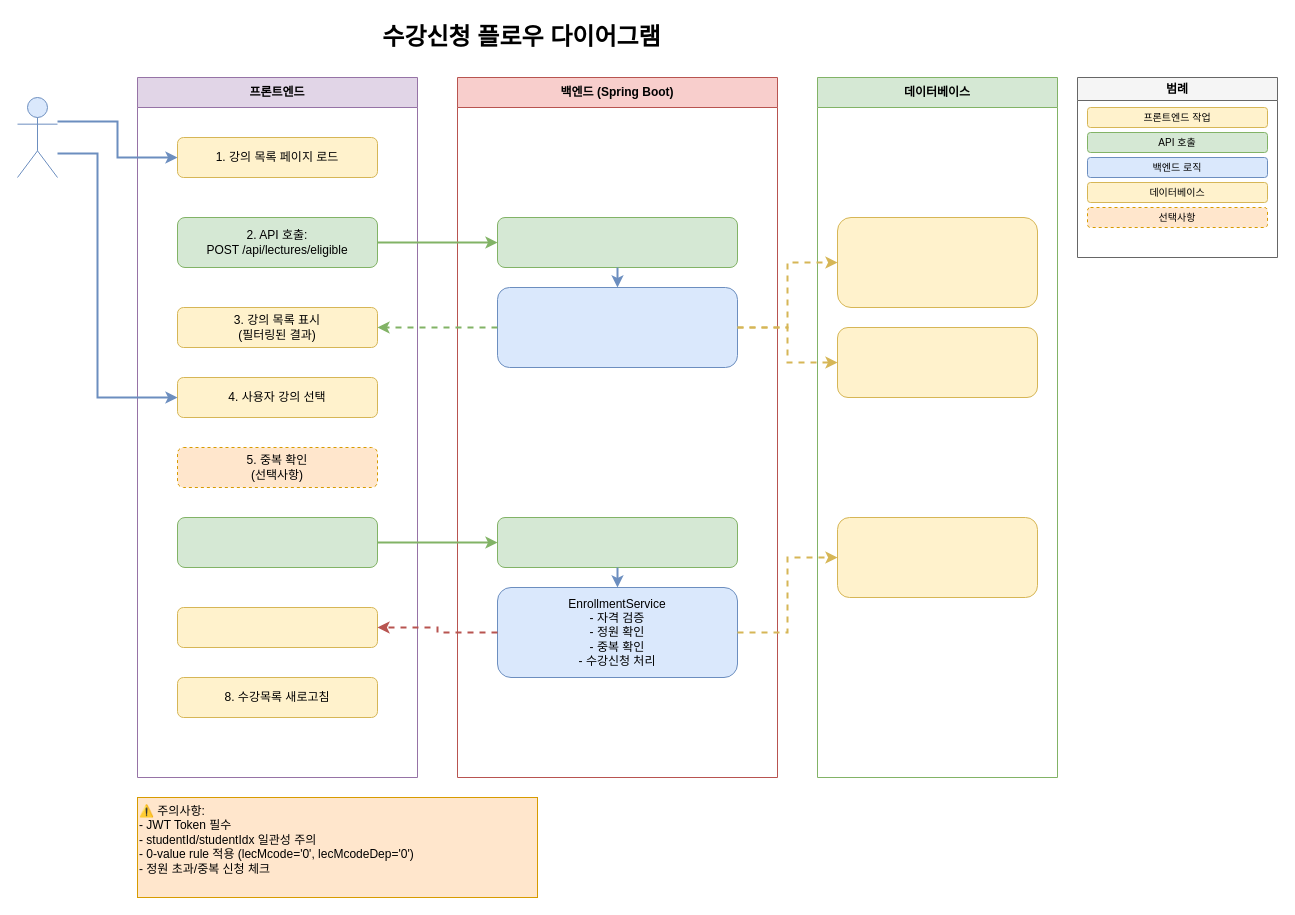
This 1295x915 diagram has some shape labels left out. The shapes that lost their labels are listed below. From the top down, each one's centre as x and y in pixels, then its label:
pixel 37 137: 학생
pixel 617 242: LectureController /api/lectures/eligible
pixel 937 262: Lecture 테이블 - lecSerial - lecMcode - lecMcodeDep - lecCurrent/lecMany
pixel 617 327: LectureService - 학생 정보 조회 - 0-value rule 적용 - 학부/학과 매칭
pixel 937 362: User 테이블 - userIdx - userMajorFacultyCode - userMajorDeptCode
pixel 277 542: 6. API 호출: POST /api/enrollments/enroll
pixel 617 542: EnrollmentController /api/enrollments/enroll
pixel 937 557: EnrollmentExtendedTbl - enrollmentIdx - studentIdx - lecIdx - enrollmentData
pixel 277 627: 7. 결과 표시 (성공/실패)
